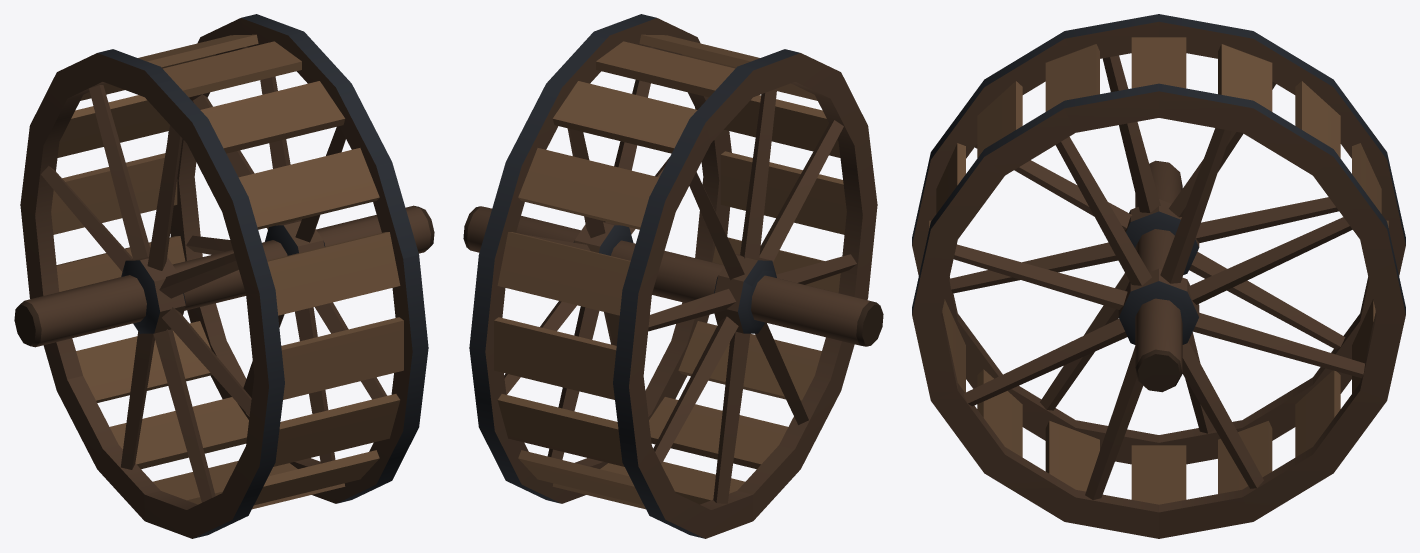
The model's file is watermill_wheel.glb.
3 views of the same model, side by side, from view 1: azimuth 30°, elevation 25°; view 2: azimuth 150°, elevation 25°; view 3: azimuth 270°, elevation 25° (orthographic).
Visible parts, largest first — view 1: isl_watermill_wheel; view 2: isl_watermill_wheel; view 3: isl_watermill_wheel.
Part boxes in pixels (x1,y1,x2,y2): isl_watermill_wheel: (14,14,434,538); isl_watermill_wheel: (463,14,883,538); isl_watermill_wheel: (912,14,1405,538).
Bounding box in the file's own units: 2.5 × 2.7 × 2.7.
